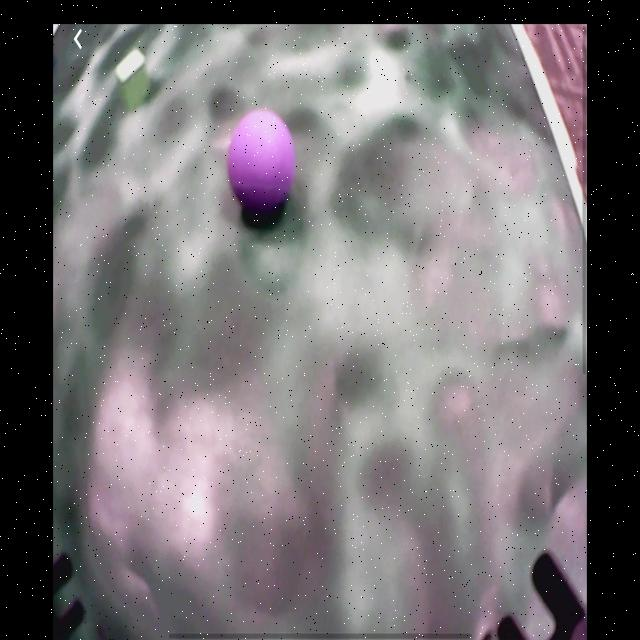ball: (230, 109, 295, 211)
